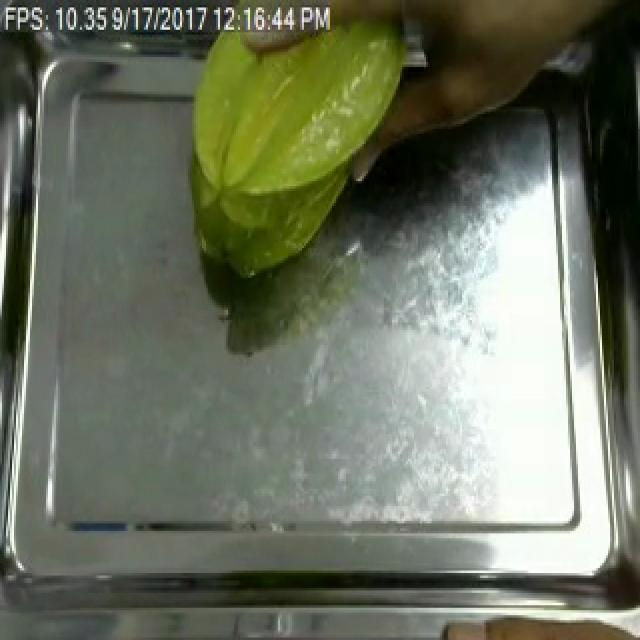fruit: (172, 10, 424, 211), (380, 0, 640, 122)
